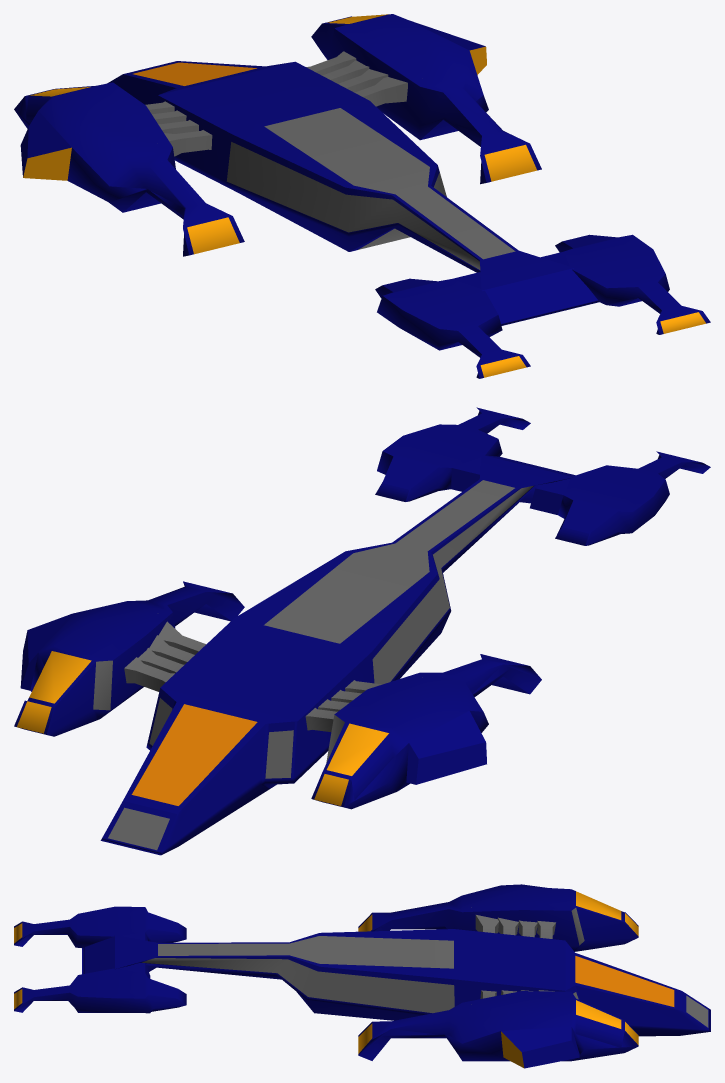
Rendered from stingray.fbx.
3 renders of one model, top to bottom at view 1: azimuth 30°, elevation 25°; view 2: azimuth 150°, elevation 25°; view 3: azimuth 270°, elevation 25°, orthographic. The views are drawn at different scales.
Parts seen in each view (by area): view 1: pCube10; view 2: pCube10; view 3: pCube10.
Boxes of the visible parts, left/top/right/bottom form: pCube10: left=14, top=14, right=710, bottom=378; pCube10: left=14, top=407, right=710, bottom=855; pCube10: left=14, top=884, right=710, bottom=1068.
Bounding box in the file's own units: 11.16 × 2.35 × 19.35.
